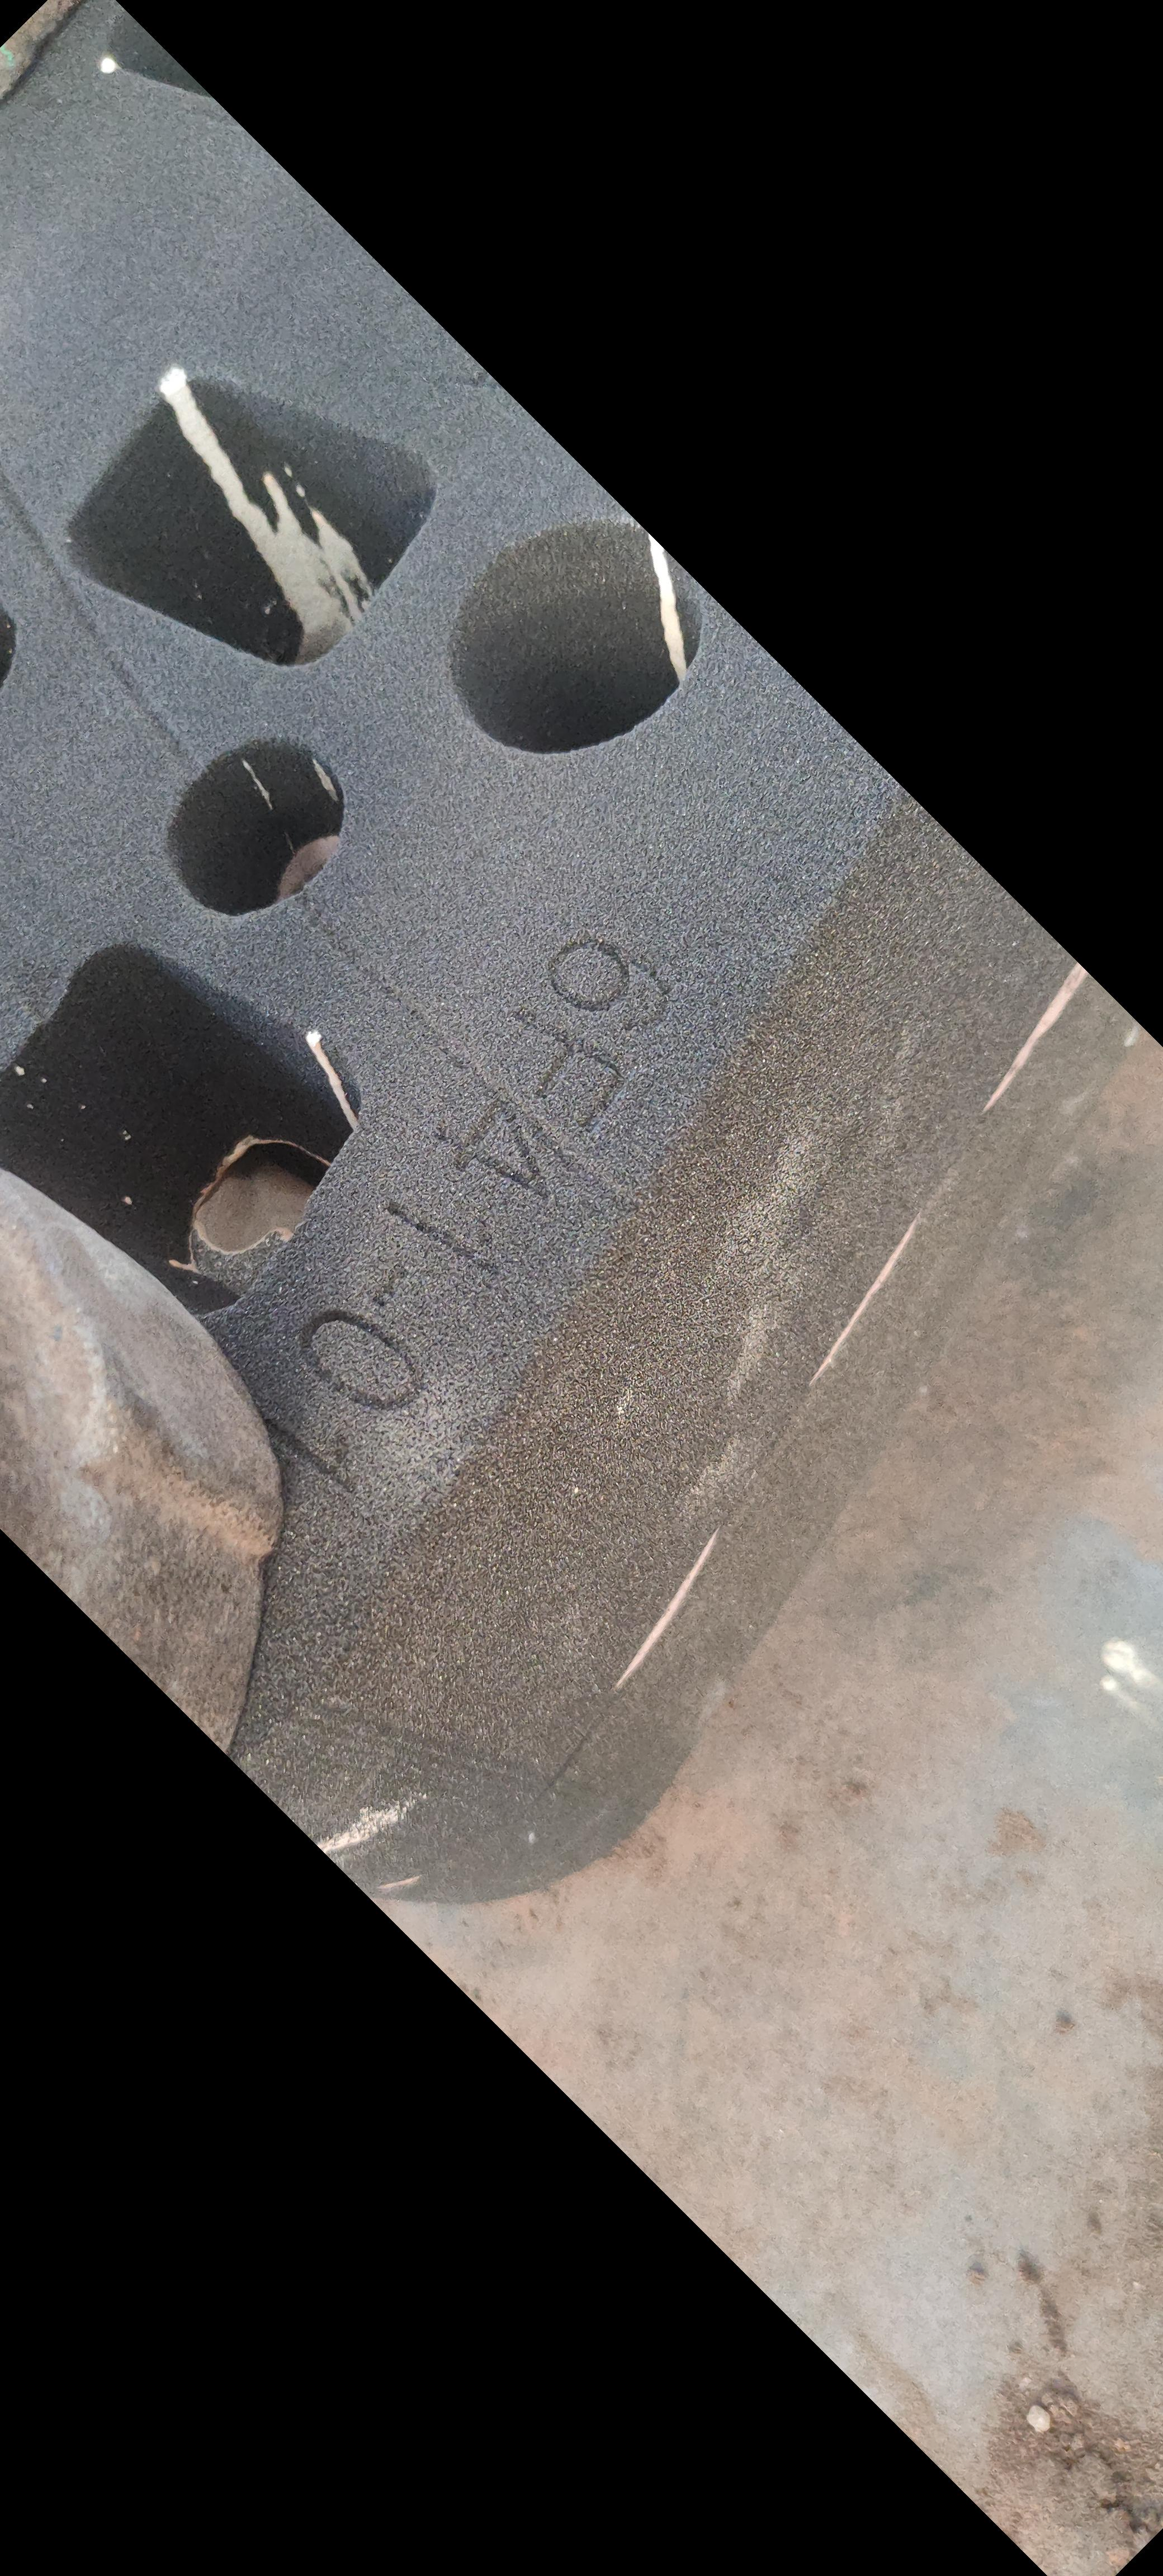pouring hole: (448, 511, 701, 757)
